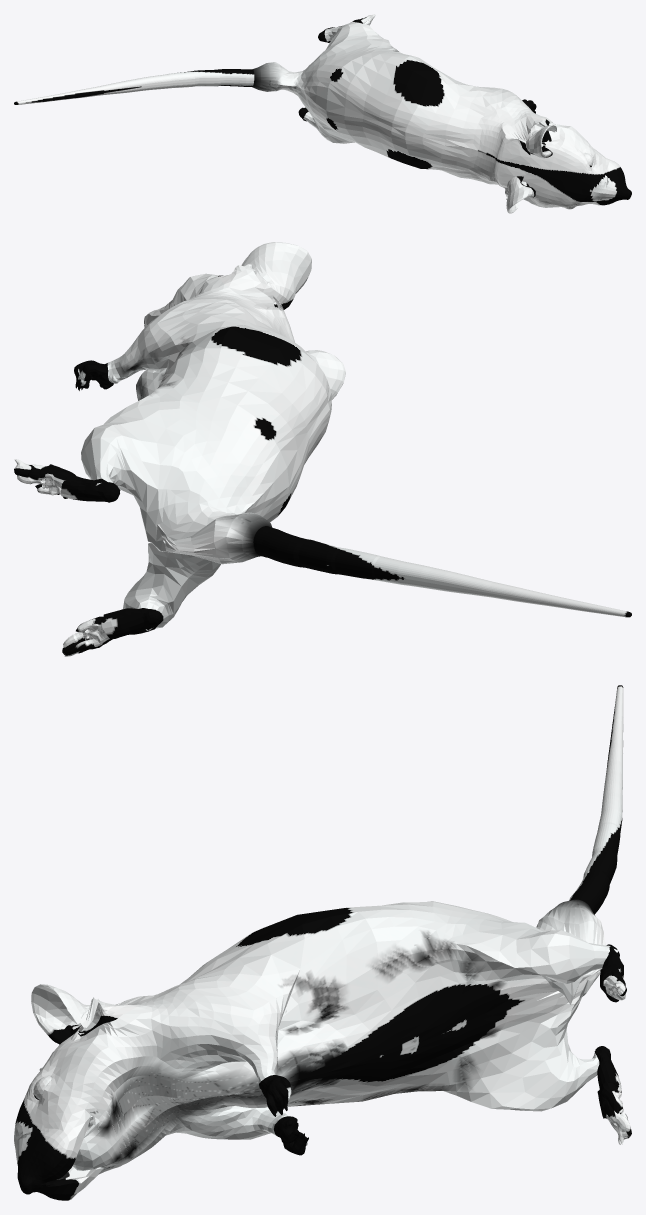
Rendered from mouse_frame2.obj.
3 views of the same model, one above another, from view 1: azimuth 30°, elevation 25°; view 2: azimuth 150°, elevation 25°; view 3: azimuth 270°, elevation 25° (orthographic). The views are drawn at different scales.
Bounding box in the file's own units: 117 × 32.12 × 81.29.
Materials: 1 (1 with a texture image).
